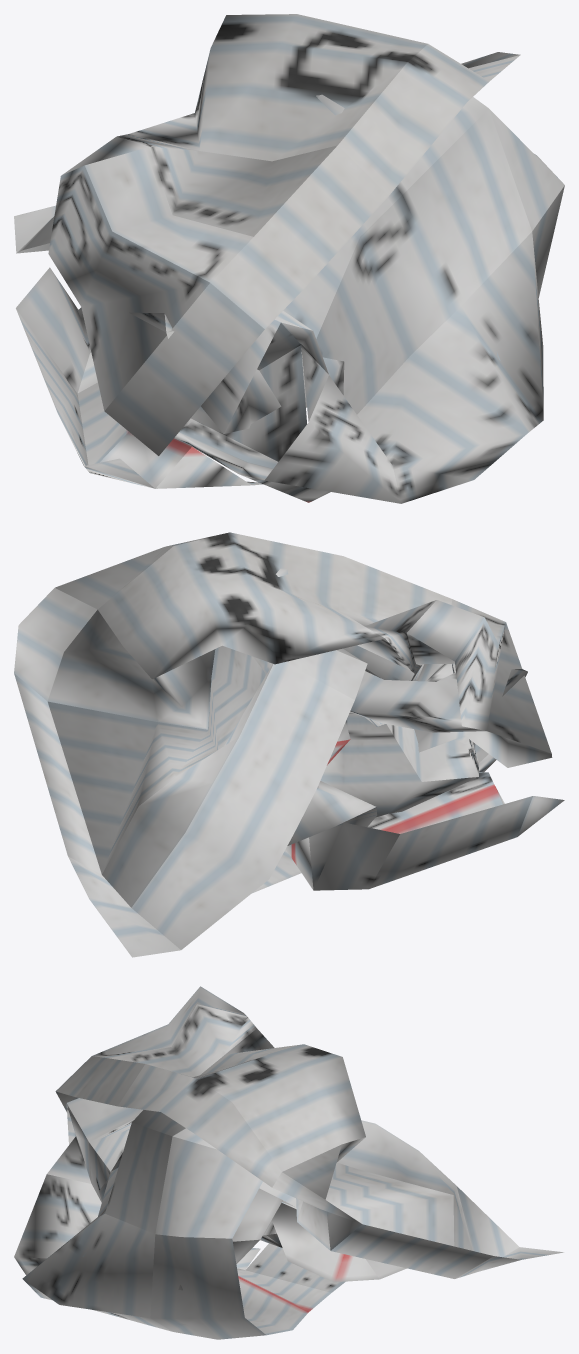
Rendered from SM_PaperBall_03.fbx.
3 renders of one model, top to bottom at view 1: azimuth 30°, elevation 25°; view 2: azimuth 150°, elevation 25°; view 3: azimuth 270°, elevation 25°, orthographic. The views are drawn at different scales.
Parts seen in each view (by area): view 1: SM_PaperBall_03_LOD0; view 2: SM_PaperBall_03_LOD0; view 3: SM_PaperBall_03_LOD0.
Part boxes in pixels (box(x1,y1,x2,y2)): SM_PaperBall_03_LOD0: box(14, 14, 564, 503); SM_PaperBall_03_LOD0: box(14, 532, 564, 957); SM_PaperBall_03_LOD0: box(14, 986, 563, 1339).
Bounding box in the file's own units: 15.87 × 19.35 × 9.23.
